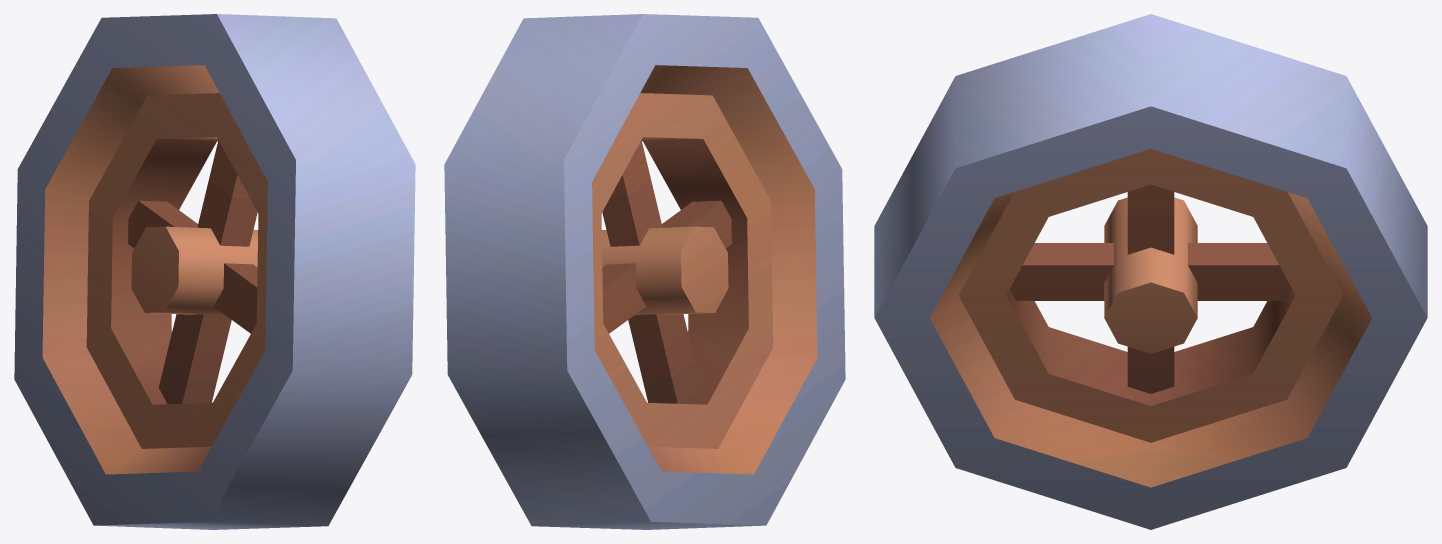
Rendered from wheel.glb.
3 views of the same model, side by side, from view 1: azimuth 30°, elevation 25°; view 2: azimuth 150°, elevation 25°; view 3: azimuth 270°, elevation 25° (orthographic).
Parts seen in each view (by area): view 1: wheel; view 2: wheel; view 3: wheel.
Part boxes in pixels (box(x1,y1,x2,y2)): wheel: box(14, 14, 415, 529); wheel: box(444, 14, 845, 529); wheel: box(874, 14, 1427, 529).
Size of the model in its own units: 0.2384 by 0.4833 by 0.4678.
1 material, 1 textured.
